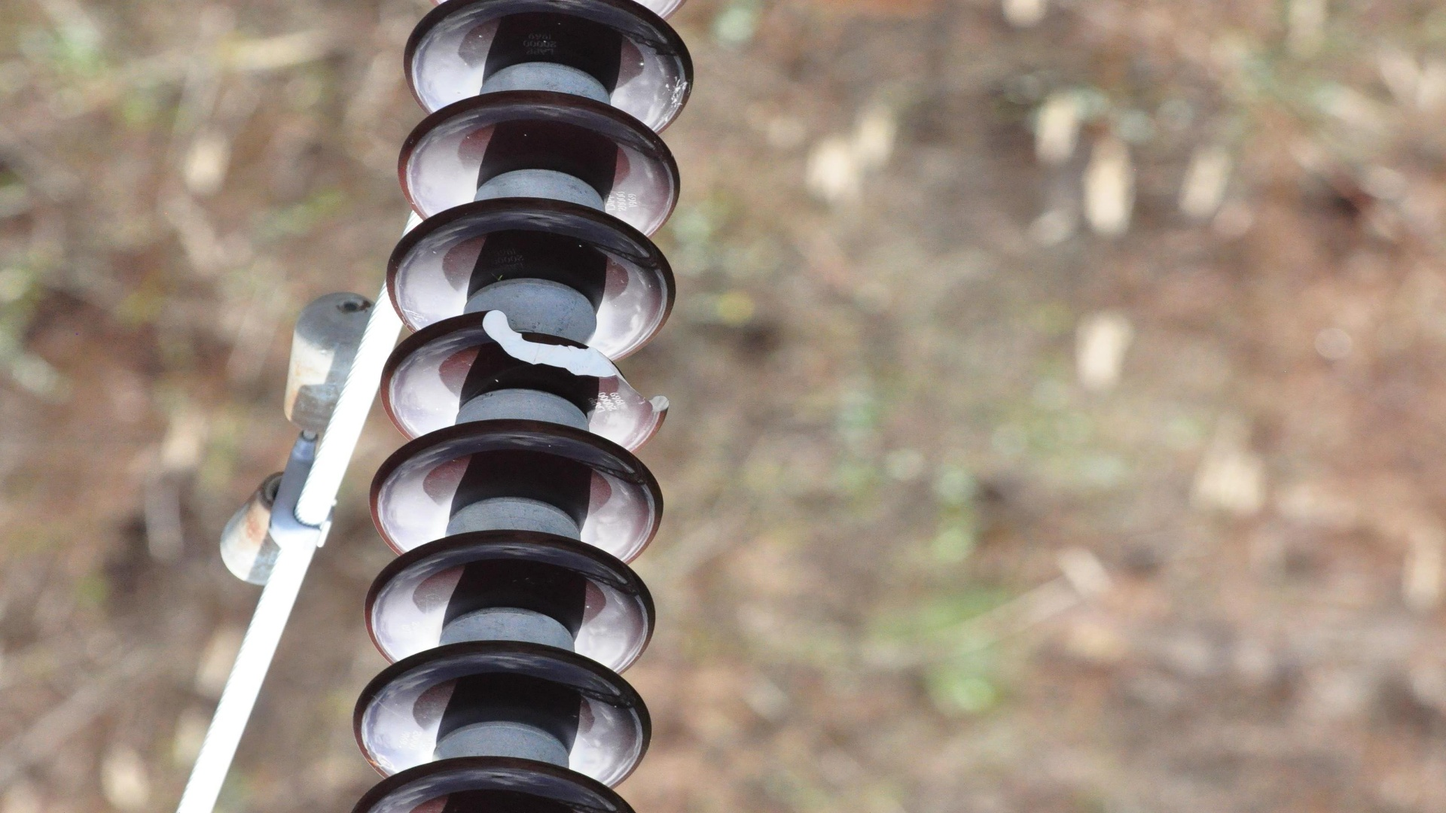insulator: (342, 1, 700, 813)
insulator_breakage: (478, 305, 675, 418)
